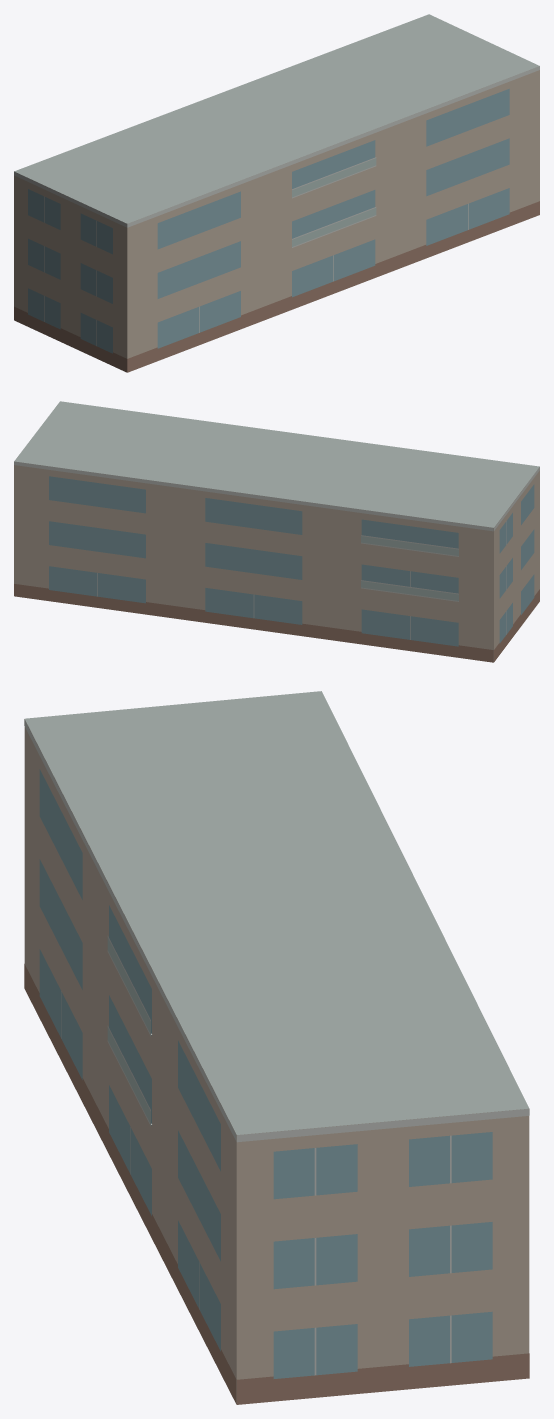
File: survey-upis-32624356.glb
3 views of the same model, one above another, from view 1: azimuth 30°, elevation 25°; view 2: azimuth 150°, elevation 25°; view 3: azimuth 270°, elevation 25° (orthographic). The views are drawn at different scales.
Visible parts, largest first — view 1: survey-upis-32624356.tmp; view 2: survey-upis-32624356.tmp; view 3: survey-upis-32624356.tmp.
Part boxes in pixels (bbox=[...]): survey-upis-32624356.tmp: bbox=[14, 14, 539, 372]; survey-upis-32624356.tmp: bbox=[14, 401, 539, 662]; survey-upis-32624356.tmp: bbox=[24, 691, 529, 1404].
Bounding box in the file's own units: 32.31 × 9.15 × 15.53.
